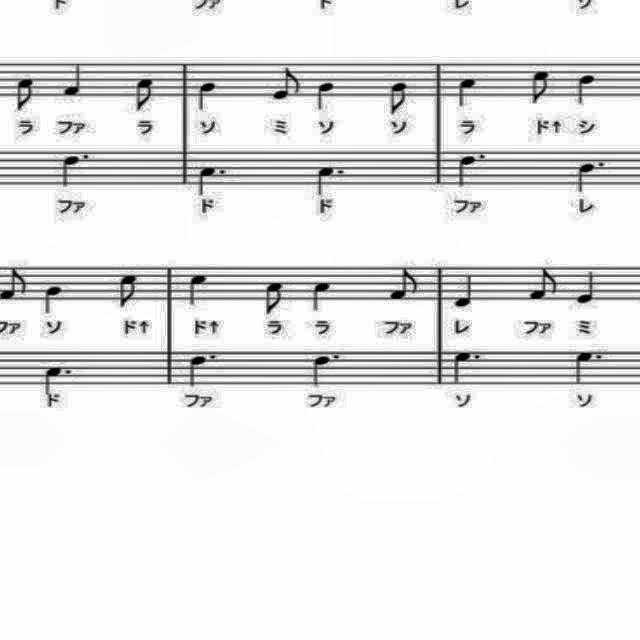Eighth-note: (386, 263, 426, 305), (526, 265, 562, 307), (270, 65, 304, 102), (262, 277, 290, 319), (12, 74, 40, 114), (115, 272, 141, 312), (530, 69, 556, 107), (134, 76, 158, 115), (388, 78, 408, 118)
Quarter-dot: (57, 148, 99, 188), (451, 150, 491, 190), (187, 350, 225, 390), (306, 346, 342, 388), (574, 156, 610, 194), (42, 360, 76, 400), (574, 345, 606, 387), (197, 160, 229, 200), (316, 160, 348, 200), (452, 347, 481, 389)
Quarter-note: (185, 270, 215, 310), (573, 268, 603, 306), (452, 273, 478, 315), (308, 279, 336, 317), (61, 63, 89, 97), (310, 79, 338, 111), (42, 284, 66, 316), (456, 74, 476, 112), (576, 72, 598, 106), (196, 76, 216, 112)
